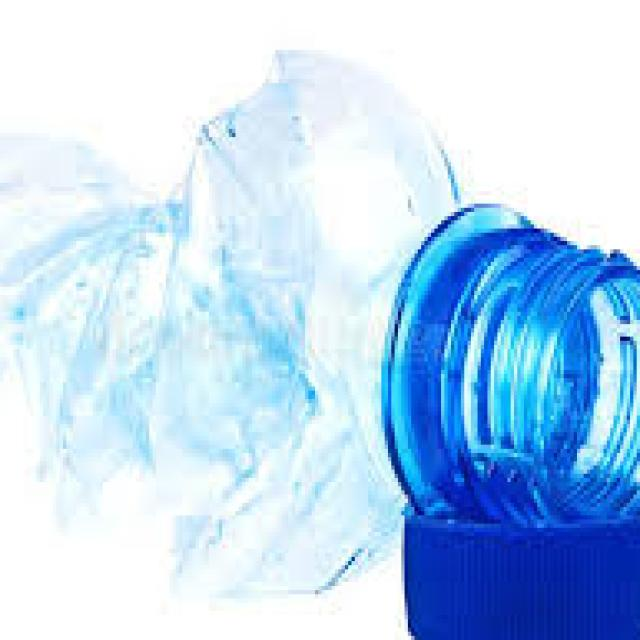organic: (19, 40, 629, 625)
